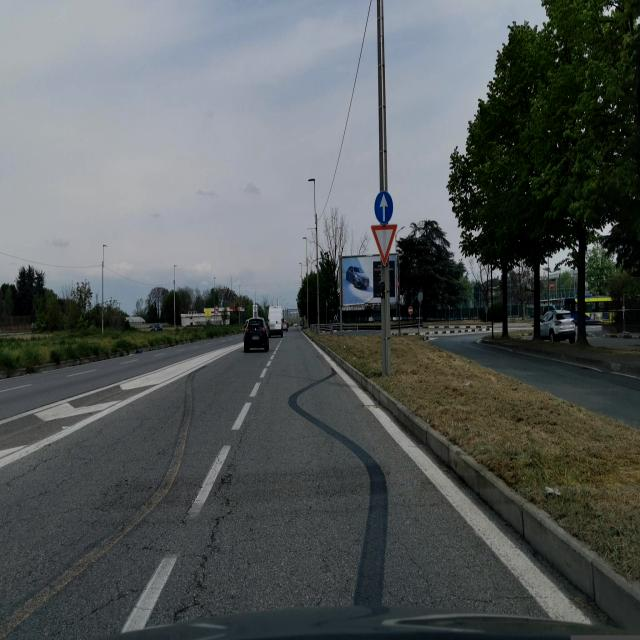car: (539, 308, 577, 344), (243, 316, 269, 352)
